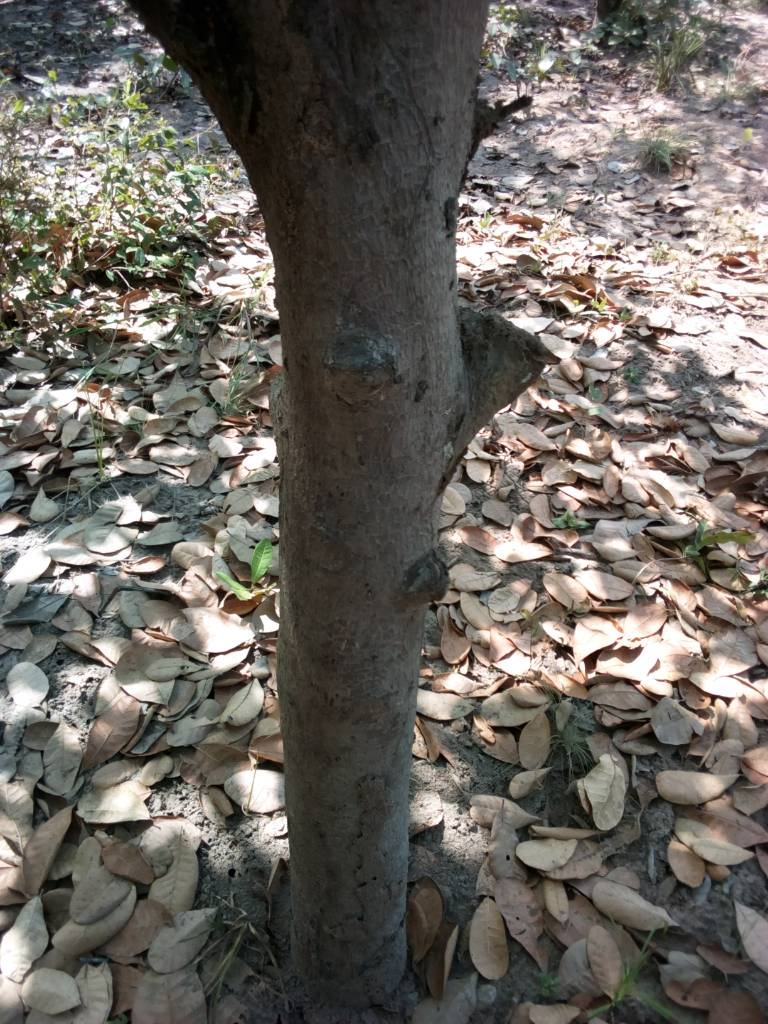Virose: (430, 283, 604, 505)
